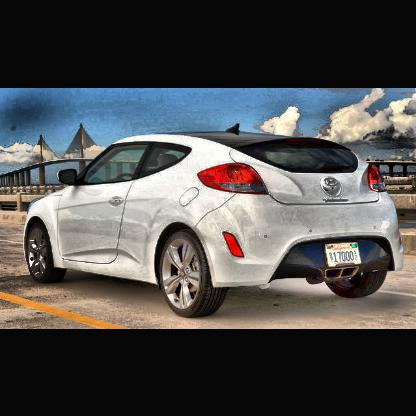Hyundai Veloster Hatchback 2012: (22, 119, 410, 324)
